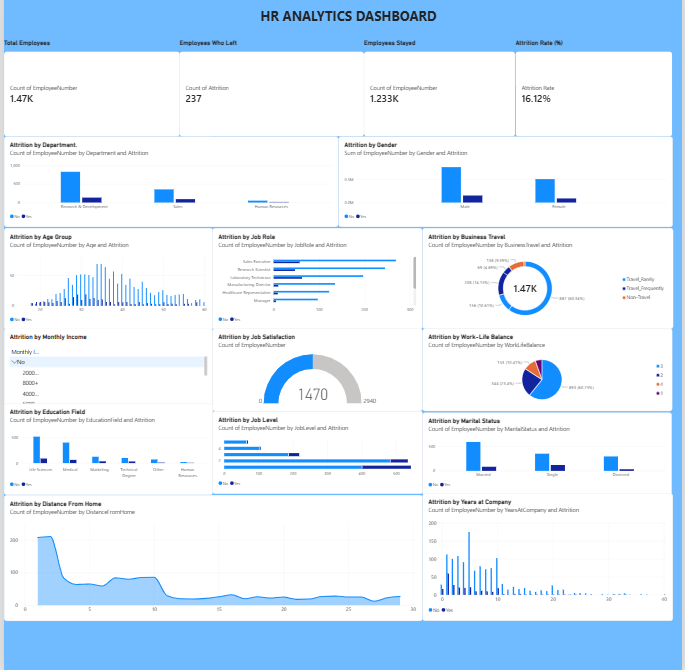

Layout of this report page (visuals, bound fields, positions):
{"tool":"powerbi","page":{"name":"Page 1","canvas":[1950,1950],"ordinal":0},"visuals":[{"type":"cardVisual","title":"Total Employees","fields":{"Data":["Count(HR_Analytics_Cleaned xlsx.EmployeeNumber)"]},"box":[0,127.5,505,280],"z":0},{"type":"cardVisual","title":"Employees Who Left","fields":{"Data":["CountNonNull(HR_Analytics_Cleaned xlsx.Attrition)"]},"box":[506,128,530,280],"z":1000},{"type":"cardVisual","title":"Employees Stayed","fields":{"Data":["Count(HR_Analytics_Cleaned xlsx.EmployeeNumber)"]},"box":[1036,128,434,280],"z":2000},{"type":"cardVisual","title":"Attrition Rate (%)","fields":{"Data":["HR_Analytics_Cleaned xlsx.Attrition Rate"]},"box":[1470,128,450,280],"z":3000},{"type":"clusteredColumnChart","title":"Attrition by Department.","fields":{"Category":["HR_Analytics_Cleaned xlsx.Department"],"Series":["HR_Analytics_Cleaned xlsx.Attrition"],"Y":["CountNonNull(HR_Analytics_Cleaned xlsx.EmployeeNumber)"]},"box":[0,407.5,960,260],"z":4000},{"type":"clusteredColumnChart","title":"Attrition by Gender","fields":{"Category":["HR_Analytics_Cleaned xlsx.Gender"],"Series":["HR_Analytics_Cleaned xlsx.Attrition"],"Y":["Sum(HR_Analytics_Cleaned xlsx.EmployeeNumber)"]},"box":[960,410,960,260],"z":5000},{"type":"clusteredColumnChart","title":"Attrition by Age Group","fields":{"Category":["HR_Analytics_Cleaned xlsx.Age"],"Series":["HR_Analytics_Cleaned xlsx.Attrition"],"Y":["CountNonNull(HR_Analytics_Cleaned xlsx.EmployeeNumber)"]},"box":[0,670,600,292.5],"z":6000},{"type":"clusteredBarChart","title":"Attrition by Job Role","fields":{"Category":["HR_Analytics_Cleaned xlsx.JobRole"],"Series":["HR_Analytics_Cleaned xlsx.Attrition"],"Y":["CountNonNull(HR_Analytics_Cleaned xlsx.EmployeeNumber)"]},"box":[600,670,602.5,292.5],"z":7000},{"type":"clusteredColumnChart","title":"Attrition by Overtime","fields":{"Category":["HR_Analytics_Cleaned xlsx.OverTime"],"Series":["HR_Analytics_Cleaned xlsx.Attrition"],"Y":["CountNonNull(HR_Analytics_Cleaned xlsx.EmployeeNumber)"]},"box":[1202.5,667.5,717.5,292.5],"z":8000},{"type":"ganttChart","title":"Attrition by Monthly Income","fields":{"Category":["HR_Analytics_Cleaned xlsx.Attrition"],"Progress":["CountNonNull(HR_Analytics_Cleaned xlsx.EmployeeNumber)"],"Task":["HR_Analytics_Cleaned xlsx.Monthly Income Group"]},"box":[0,960,600,237],"z":9000},{"type":"gauge","title":"Attrition by Job Satisfaction","fields":{"Y":["CountNonNull(HR_Analytics_Cleaned xlsx.EmployeeNumber)"]},"box":[600,962.5,603,237],"z":10000},{"type":"pieChart","title":"Attrition by Work-Life Balance","fields":{"Category":["HR_Analytics_Cleaned xlsx.WorkLifeBalance","HR_Analytics_Cleaned xlsx.Attrition"],"Y":["CountNonNull(HR_Analytics_Cleaned xlsx.EmployeeNumber)"]},"box":[1202.5,962.5,717,237],"z":11000},{"type":"textbox","box":[735,40,705,52.5],"z":12000},{"type":"donutChart","title":"Attrition by Business Travel","fields":{"Category":["HR_Analytics_Cleaned xlsx.BusinessTravel"],"Series":["HR_Analytics_Cleaned xlsx.Attrition"],"Y":["CountNonNull(HR_Analytics_Cleaned xlsx.EmployeeNumber)"]},"box":[0,1198,600,238],"z":13000},{"type":"clusteredColumnChart","title":"Attrition by Job Level","fields":{"Category":["HR_Analytics_Cleaned xlsx.JobLevel"],"Series":["HR_Analytics_Cleaned xlsx.Attrition"],"Y":["CountNonNull(HR_Analytics_Cleaned xlsx.EmployeeNumber)"]},"box":[600,1198,604,238],"z":14000},{"type":"clusteredColumnChart","title":"Attrition by Marital Status","fields":{"Category":["HR_Analytics_Cleaned xlsx.MaritalStatus"],"Series":["HR_Analytics_Cleaned xlsx.Attrition"],"Y":["CountNonNull(HR_Analytics_Cleaned xlsx.EmployeeNumber)"]},"box":[1204,1200,716,238],"z":15000},{"type":"clusteredColumnChart","title":"Attrition by Education Field","fields":{"Category":["HR_Analytics_Cleaned xlsx.EducationField"],"Series":["HR_Analytics_Cleaned xlsx.Attrition"],"Y":["CountNonNull(HR_Analytics_Cleaned xlsx.EmployeeNumber)"]},"box":[0,1438,600,238],"z":16000},{"type":"stackedAreaChart","title":"Attrition by Distance From Home","fields":{"Category":["HR_Analytics_Cleaned xlsx.DistanceFromHome","HR_Analytics_Cleaned xlsx.Attrition"],"Y":["CountNonNull(HR_Analytics_Cleaned xlsx.EmployeeNumber)"]},"box":[600,1438,600,238],"z":17000},{"type":"clusteredColumnChart","title":"Attrition by Years at Company","fields":{"Category":["HR_Analytics_Cleaned xlsx.YearsAtCompany"],"Series":["HR_Analytics_Cleaned xlsx.Attrition"],"Y":["CountNonNull(HR_Analytics_Cleaned xlsx.EmployeeNumber)"]},"box":[1204,1436,716,238],"z":18000}]}

Visuals, with their boxes in screenshot pixels (x1, y1, x2, y2), scaled from the page's 1950x1950 canvas onto the 685x670 screenshot:
"Total Employees" cardVisual: {"left": 0, "top": 44, "right": 177, "bottom": 140}
"Employees Who Left" cardVisual: {"left": 178, "top": 44, "right": 364, "bottom": 140}
"Employees Stayed" cardVisual: {"left": 364, "top": 44, "right": 516, "bottom": 140}
"Attrition Rate (%)" cardVisual: {"left": 516, "top": 44, "right": 674, "bottom": 140}
"Attrition by Department." clusteredColumnChart: {"left": 0, "top": 140, "right": 337, "bottom": 229}
"Attrition by Gender" clusteredColumnChart: {"left": 337, "top": 141, "right": 674, "bottom": 230}
"Attrition by Age Group" clusteredColumnChart: {"left": 0, "top": 230, "right": 211, "bottom": 331}
"Attrition by Job Role" clusteredBarChart: {"left": 211, "top": 230, "right": 422, "bottom": 331}
"Attrition by Overtime" clusteredColumnChart: {"left": 422, "top": 229, "right": 674, "bottom": 330}
"Attrition by Monthly Income" ganttChart: {"left": 0, "top": 330, "right": 211, "bottom": 411}
"Attrition by Job Satisfaction" gauge: {"left": 211, "top": 331, "right": 423, "bottom": 412}
"Attrition by Work-Life Balance" pieChart: {"left": 422, "top": 331, "right": 674, "bottom": 412}
textbox: {"left": 258, "top": 14, "right": 506, "bottom": 32}
"Attrition by Business Travel" donutChart: {"left": 0, "top": 412, "right": 211, "bottom": 493}
"Attrition by Job Level" clusteredColumnChart: {"left": 211, "top": 412, "right": 423, "bottom": 493}
"Attrition by Marital Status" clusteredColumnChart: {"left": 423, "top": 412, "right": 674, "bottom": 494}
"Attrition by Education Field" clusteredColumnChart: {"left": 0, "top": 494, "right": 211, "bottom": 576}
"Attrition by Distance From Home" stackedAreaChart: {"left": 211, "top": 494, "right": 422, "bottom": 576}
"Attrition by Years at Company" clusteredColumnChart: {"left": 423, "top": 493, "right": 674, "bottom": 575}
